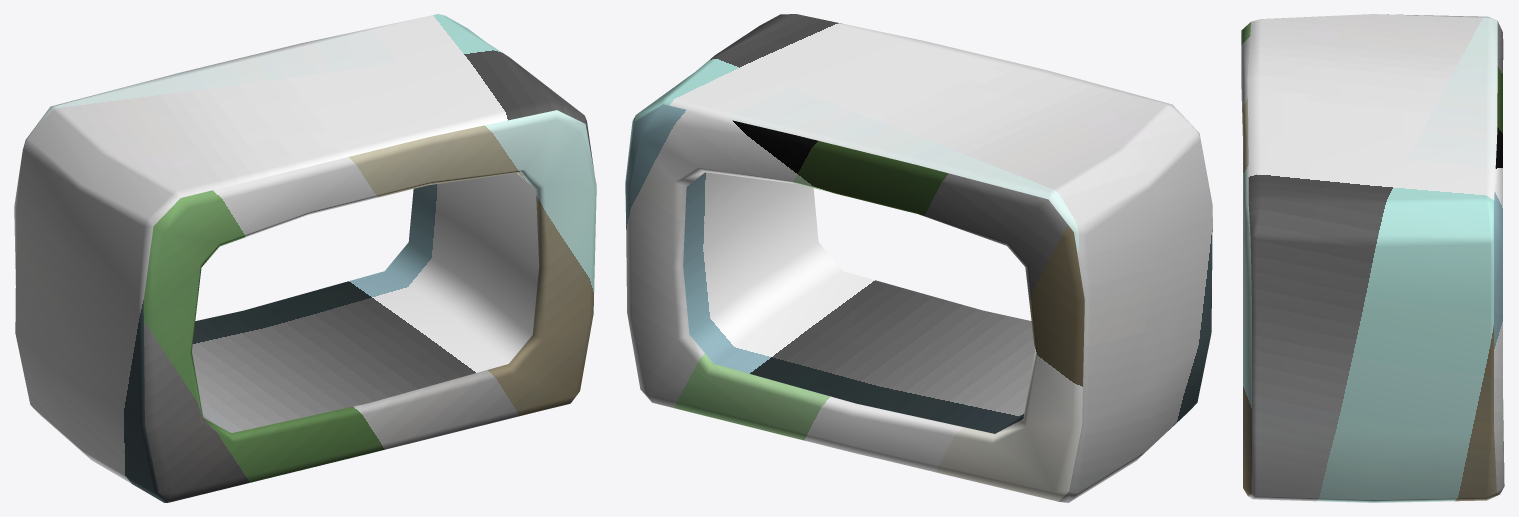
Rendered from P_StoneCubeSmall.glb.
3 renders of one model, left to right at view 1: azimuth 30°, elevation 25°; view 2: azimuth 150°, elevation 25°; view 3: azimuth 270°, elevation 25°, orthographic. The views are drawn at different scales.
Visible parts, largest first — view 1: P_StoneCubeSmall; view 2: P_StoneCubeSmall; view 3: P_StoneCubeSmall.
Boxes of the visible parts, <box> form: P_StoneCubeSmall: <box>14,14,596,502</box>; P_StoneCubeSmall: <box>625,14,1212,502</box>; P_StoneCubeSmall: <box>1241,14,1504,502</box>.
Bounding box in the file's own units: 1.01 × 0.6219 × 0.5003.
1 material, 1 textured.
